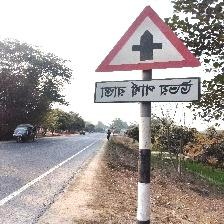Crossroad: (92, 2, 201, 105)
